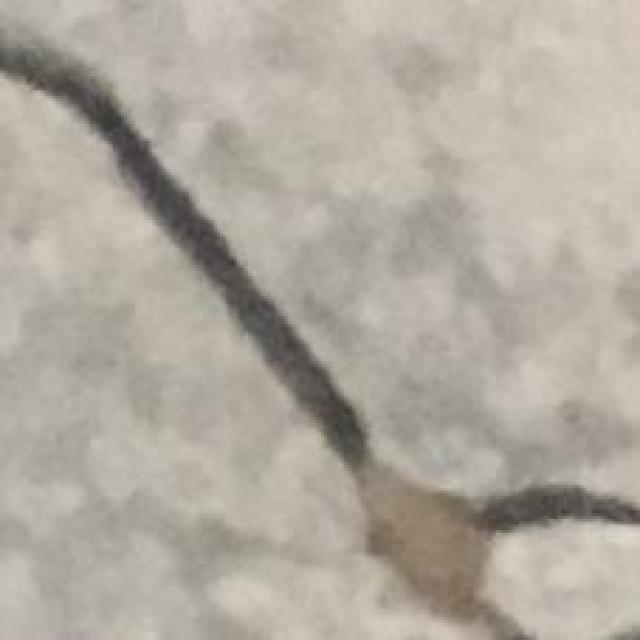Crack: (9, 28, 637, 623)
